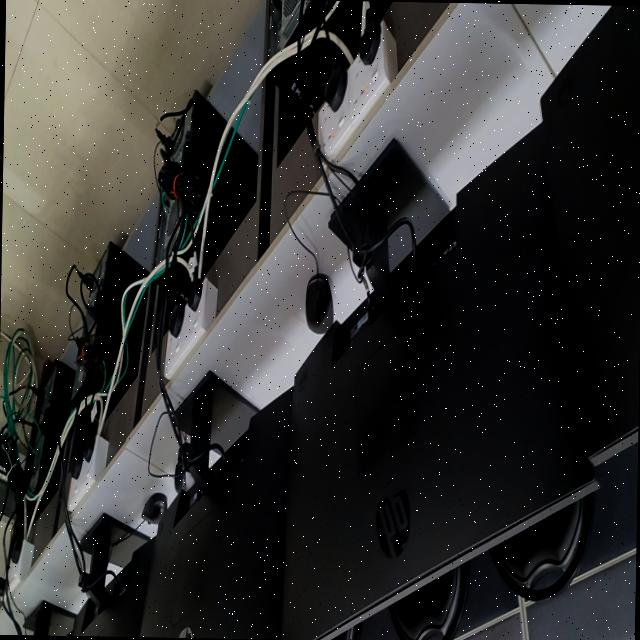Chair: (490, 493, 593, 601), (389, 563, 468, 640)
Cpu: (151, 86, 258, 308), (272, 0, 391, 123), (72, 239, 150, 424), (25, 356, 77, 521)
Monitor: (282, 126, 597, 640), (542, 5, 640, 465), (141, 371, 292, 639), (68, 514, 154, 637), (23, 601, 74, 636)
Mouse: (305, 273, 333, 334), (141, 493, 167, 524), (174, 459, 185, 493)
